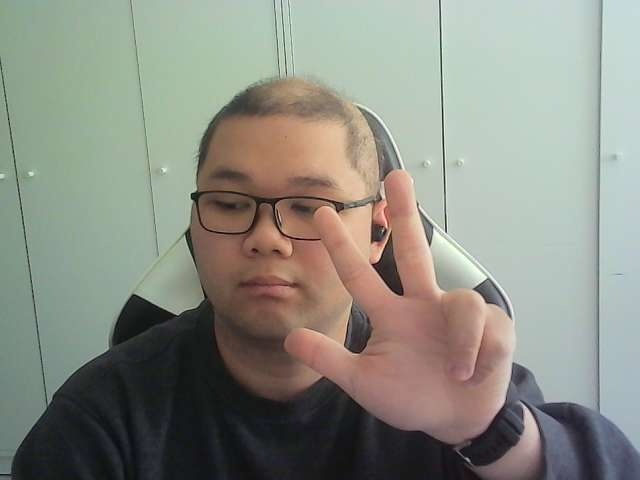Three: (284, 169, 518, 433)
